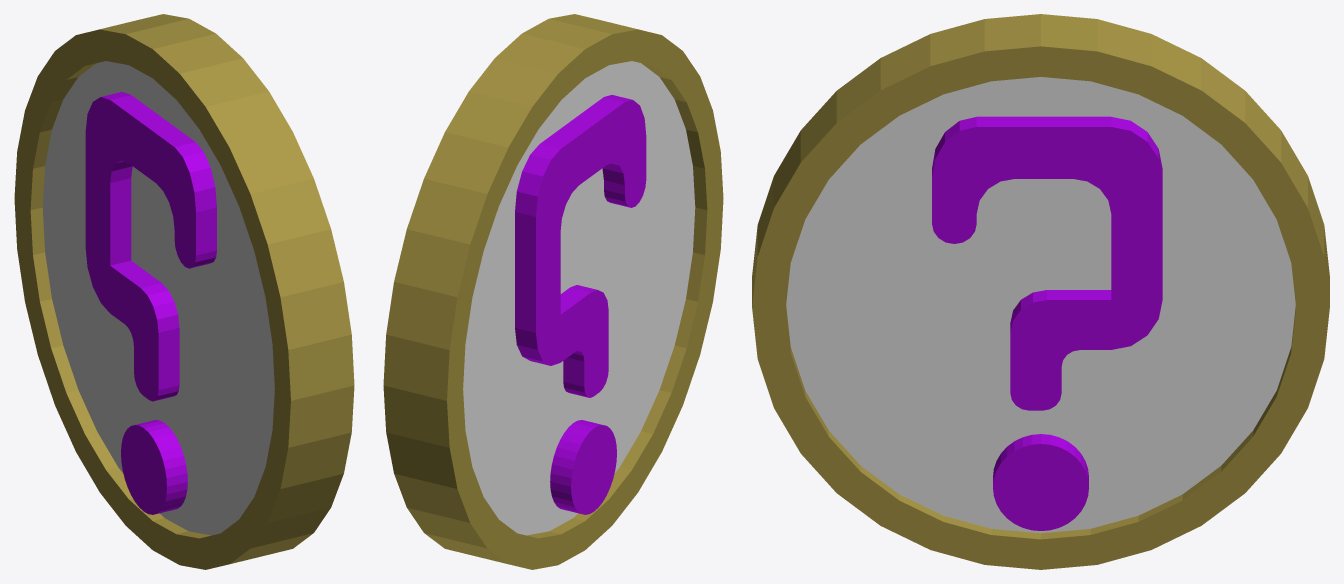
Rendered from random.fbx.
3 views of the same model, side by side, from view 1: azimuth 30°, elevation 25°; view 2: azimuth 150°, elevation 25°; view 3: azimuth 270°, elevation 25° (orthographic). The views are drawn at different scales.
Visible parts, largest first — view 1: Cylinder, Cube, Cylinder.001; view 2: Cylinder, Cube, Cylinder.001; view 3: Cylinder, Cube, Cylinder.001.
Boxes of the visible parts, left/top/right/bottom form: Cylinder: left=14, top=14, right=354, bottom=569; Cube: left=85, top=92, right=216, bottom=401; Cylinder.001: left=121, top=420, right=187, bottom=514; Cylinder: left=383, top=14, right=723, bottom=569; Cube: left=515, top=95, right=646, bottom=397; Cylinder.001: left=550, top=420, right=616, bottom=514; Cylinder: left=752, top=14, right=1329, bottom=569; Cube: left=932, top=116, right=1162, bottom=410; Cylinder.001: left=993, top=434, right=1088, bottom=530.
Bounding box in the file's own units: 33.45 × 200 × 200.
